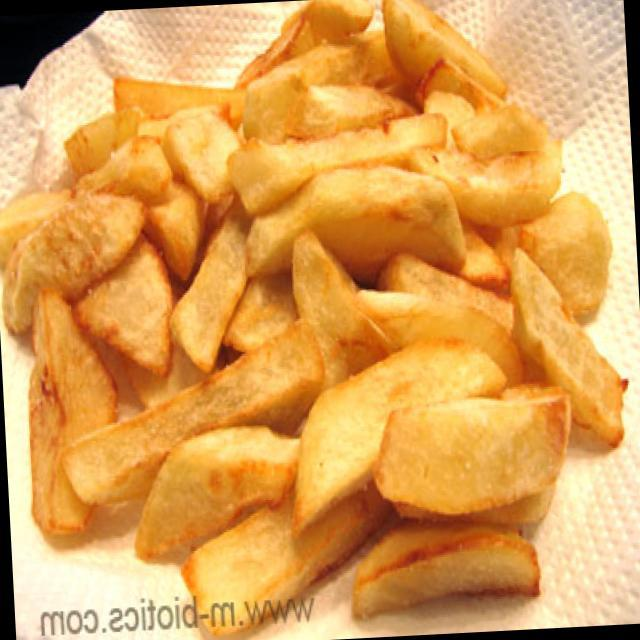French Fries: (0, 0, 621, 611)
